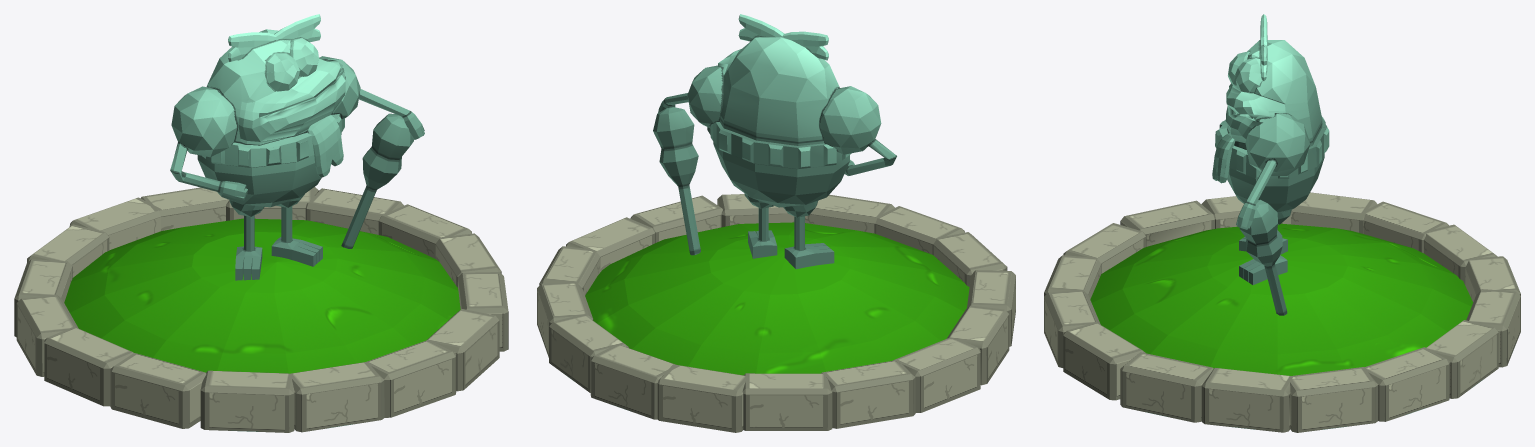
File: WartWood_Statue.glb
3 renders of one model, left to right at view 1: azimuth 30°, elevation 25°; view 2: azimuth 150°, elevation 25°; view 3: azimuth 270°, elevation 25°, orthographic. The views are drawn at different scales.
Parts seen in each view (by area): view 1: StatueBody; view 2: StatueBody; view 3: StatueBody.
Part boxes in pixels (bbox=[...]): StatueBody: bbox=[14, 14, 508, 432]; StatueBody: bbox=[537, 14, 1015, 432]; StatueBody: bbox=[1044, 14, 1520, 432].
Size of the model in its own units: 2.08 by 1.41 by 2.06.
1 material, 1 textured.
